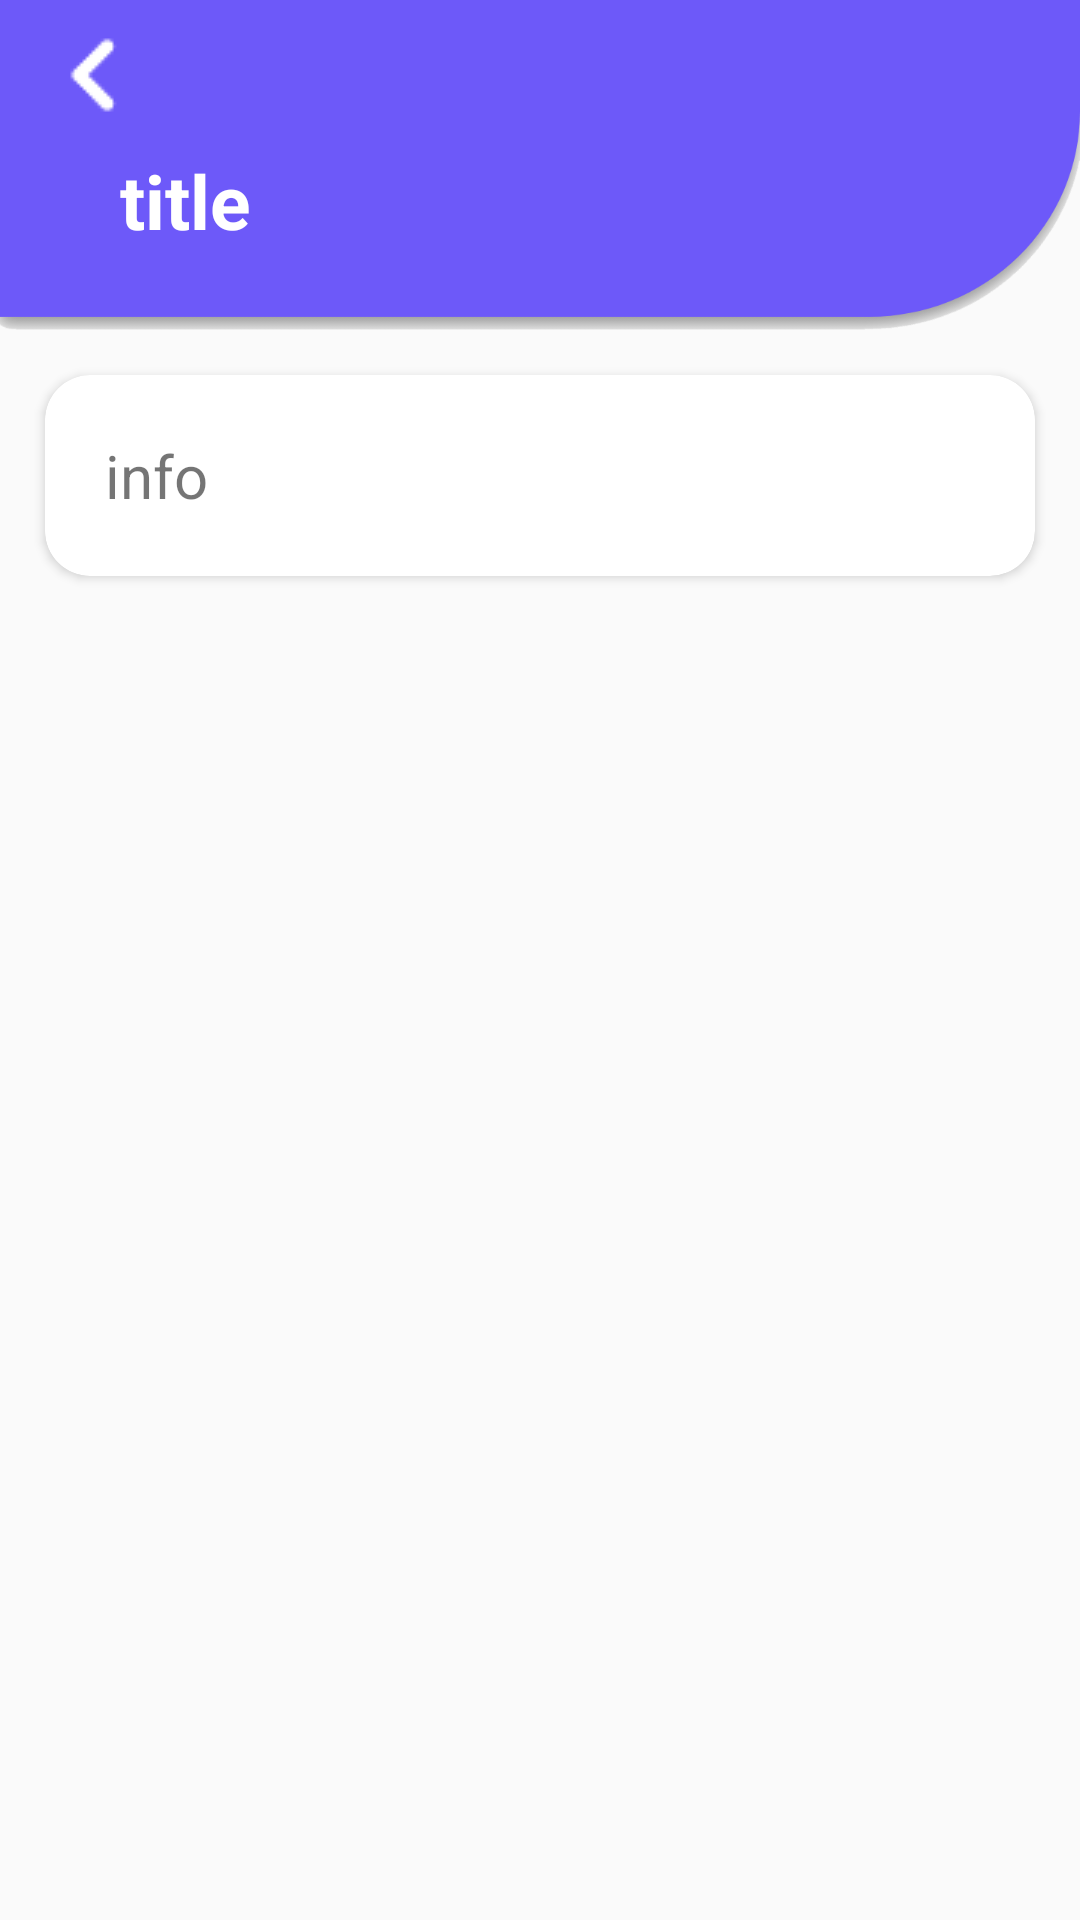

Where to tap for icons on this 1080 × 1920 app screen, as (x=x, y=y):
back: (x=92, y=75)
